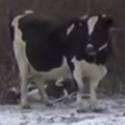cow: (9, 9, 115, 114)
